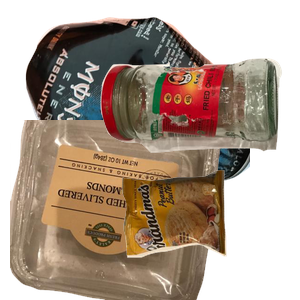glass: (98, 56, 300, 201)
metal: (23, 15, 263, 195)
plastic: (10, 120, 227, 300)
trash: (120, 168, 300, 300)
